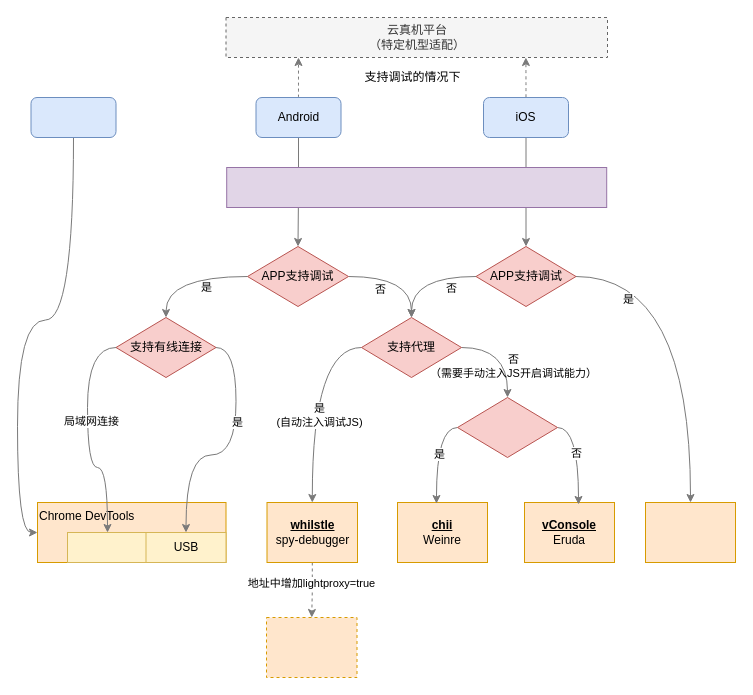
Image size: 753x695. Some labels were removed from this diagram. Each missing label, with the centre of its shape:
"adb connect" goes at pixel 107 547.
"LightProxy" goes at pixel 311 647.
"Mac Safari" goes at pixel 690 532.
"PC(Win\Mac)" goes at pixel 73 117.
"修改DOM/CSS 执行JS代码" goes at pixel 507 427.
"真机、虚拟机" goes at pixel 416 187.
